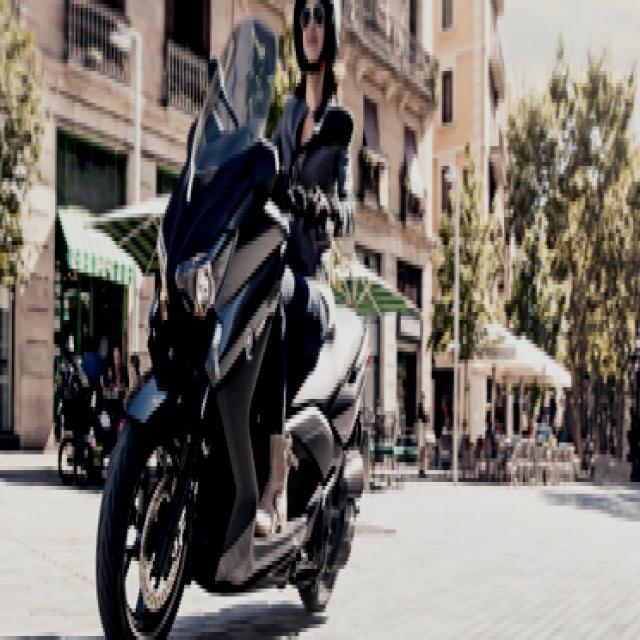Helmet: (288, 0, 342, 83)
